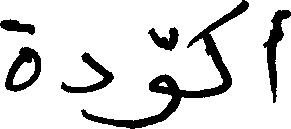X: (201, 0, 246, 102), (63, 47, 113, 128), (0, 14, 41, 96), (150, 22, 179, 128), (266, 5, 290, 107)
